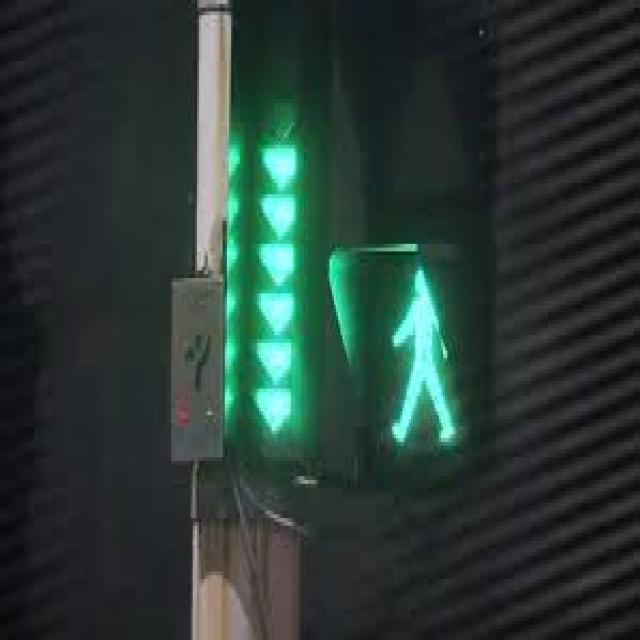green_light: (380, 266, 462, 448)
